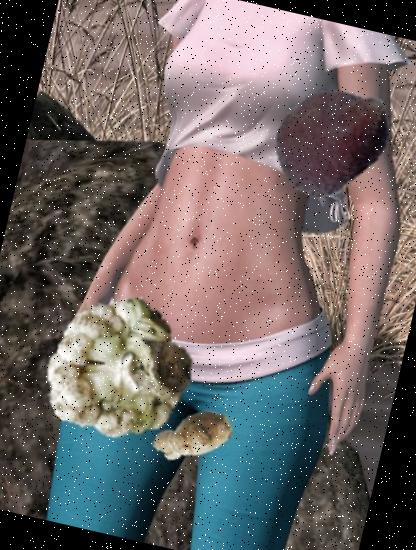Cauliflower: (28, 281, 207, 460)
Ginger: (142, 386, 242, 486)
Salak: (257, 62, 407, 212)
